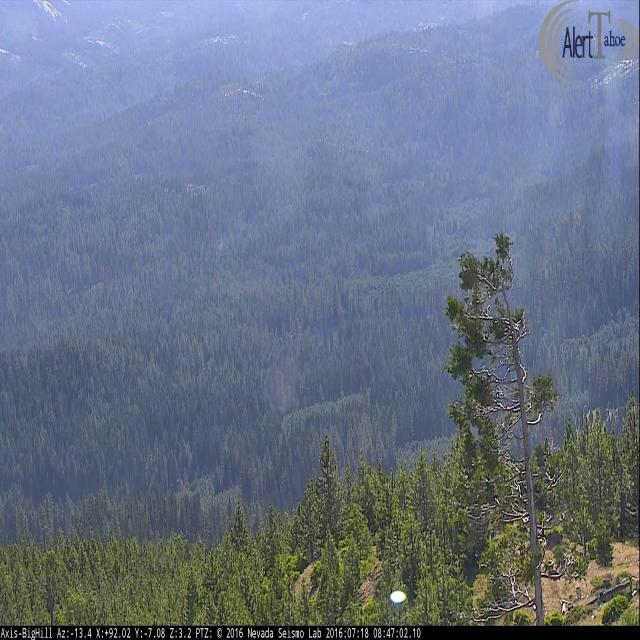smoke: (216, 233, 229, 253)
